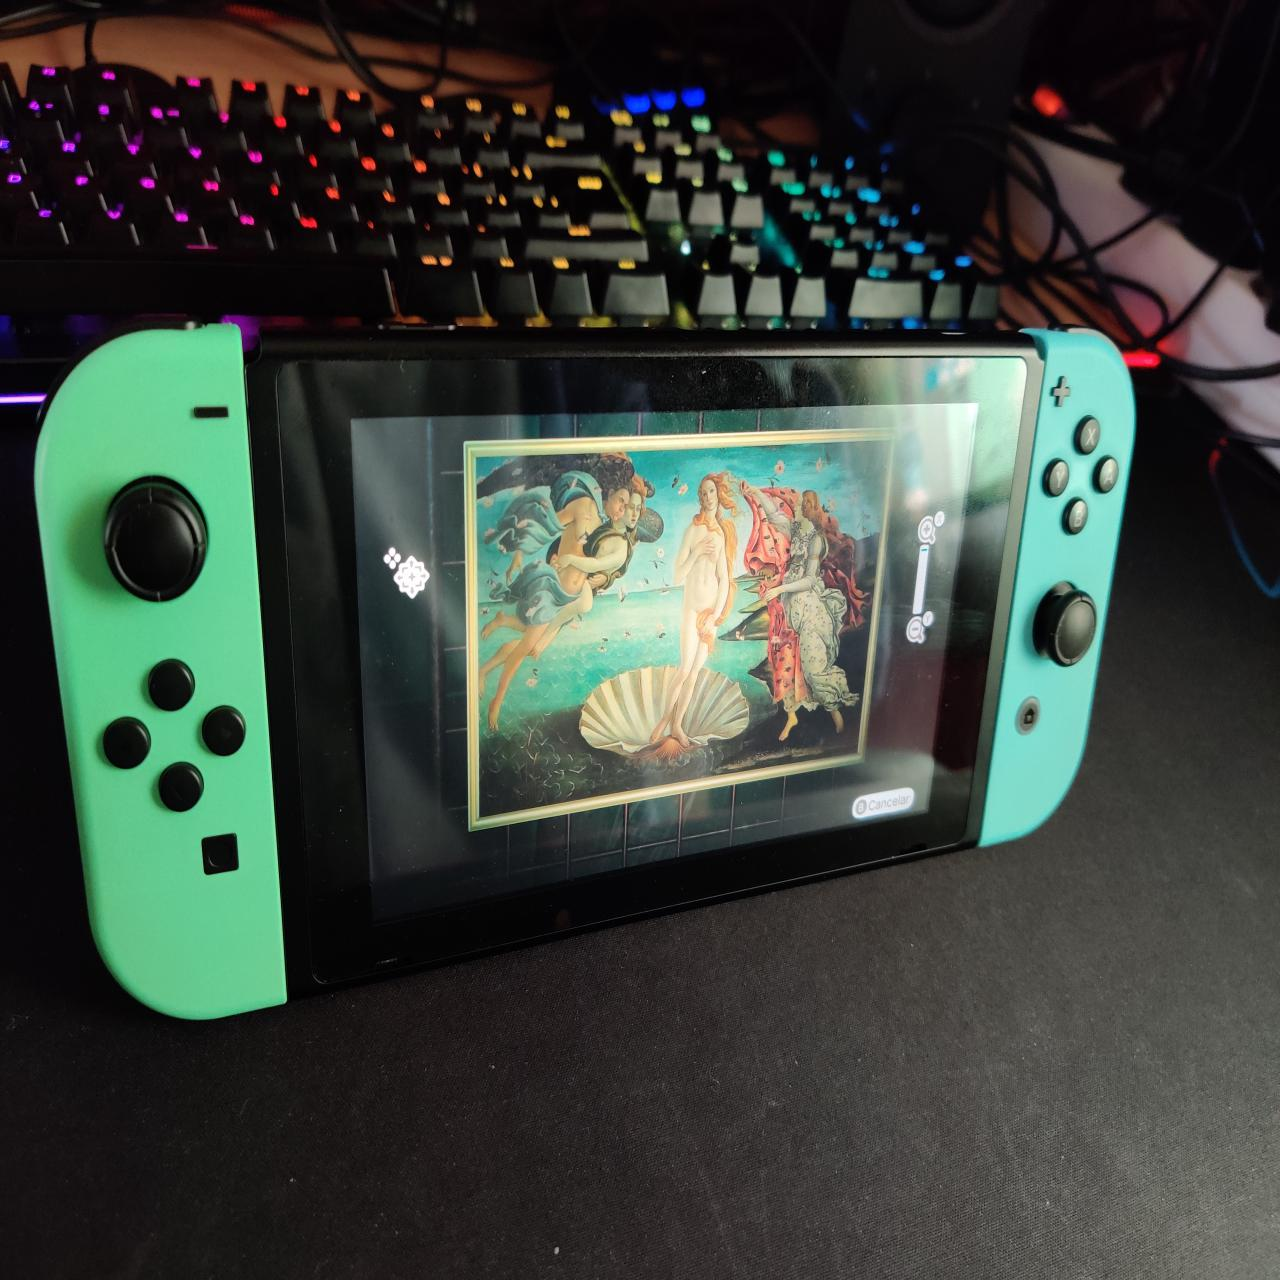BirthVenusFake: (481, 448, 886, 792)
